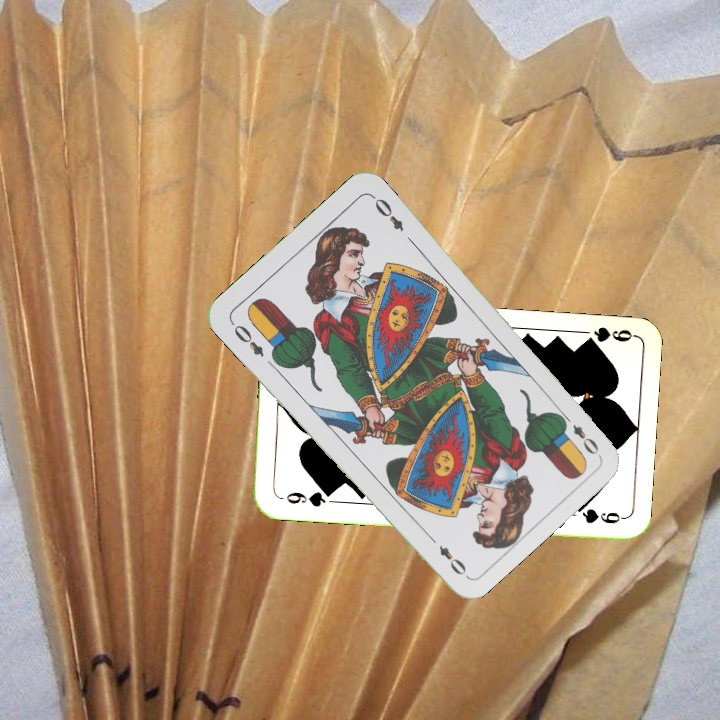EO: (557, 409, 602, 458), (226, 318, 267, 360)
G9: (276, 487, 335, 510), (581, 322, 636, 345)
